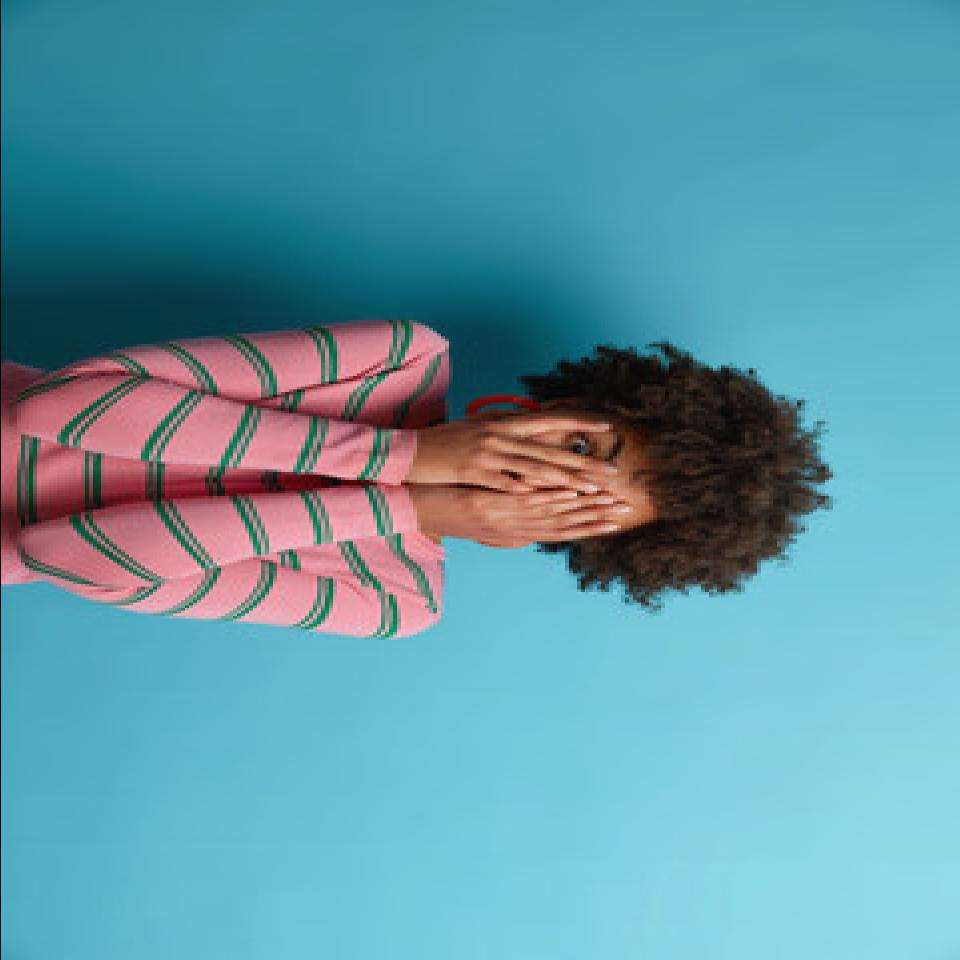Scared: (461, 431, 645, 541)
